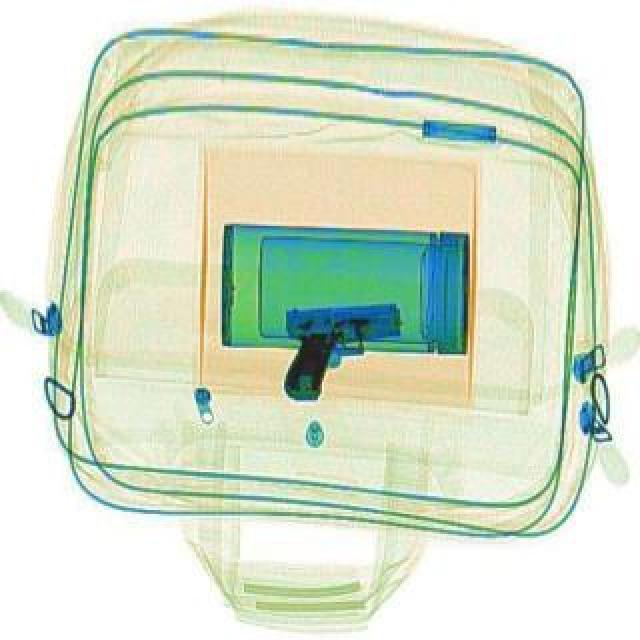gun: (278, 300, 404, 398)
